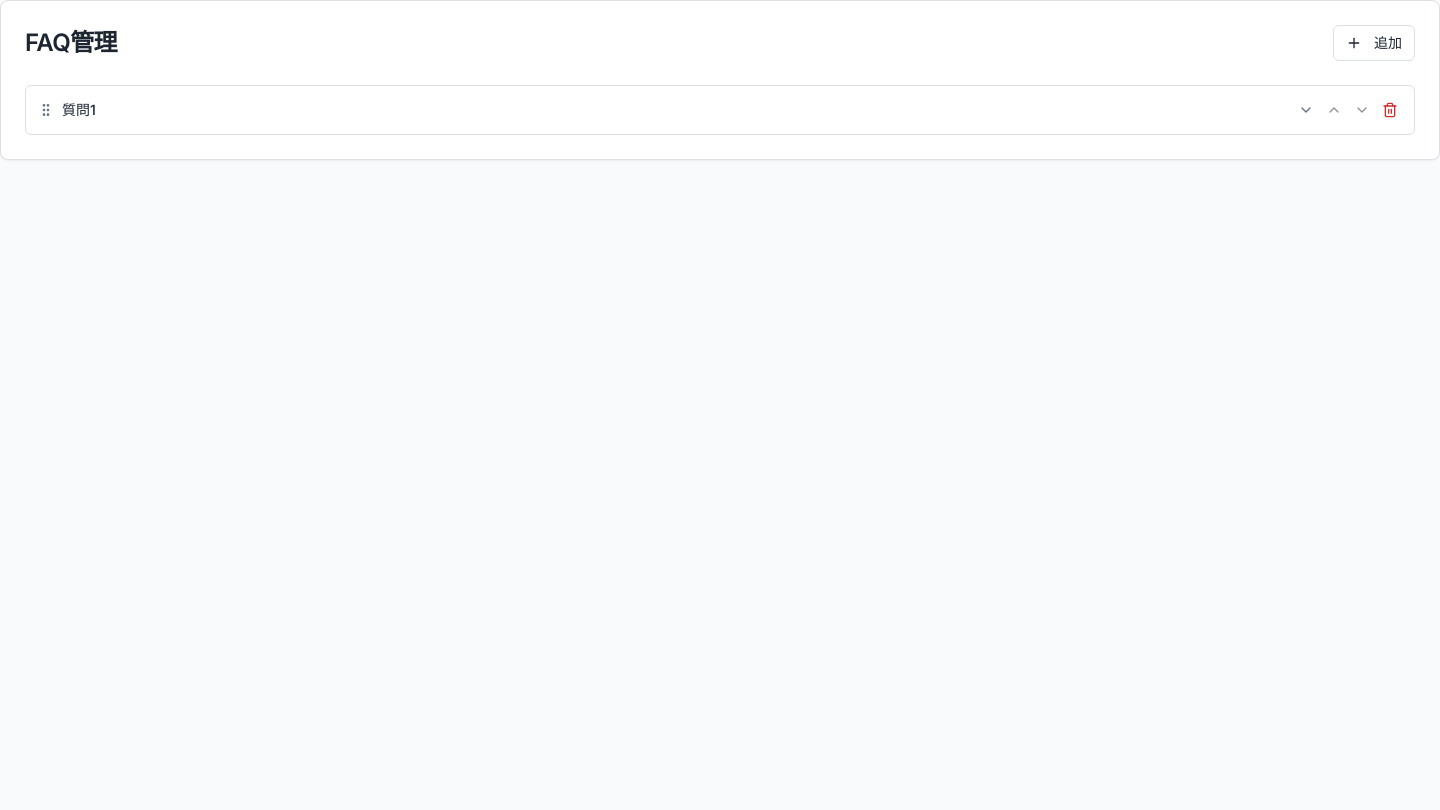
Test: FAQManager › localization › renders both language edit fields when expanded in bilingual mode
The image size is (1440, 810).
What coordinates should you click on to do the following:
click the button "質問1"
I would click on:
 (79, 110)
Its box is x1=62 y1=100 x2=1314 y2=120.
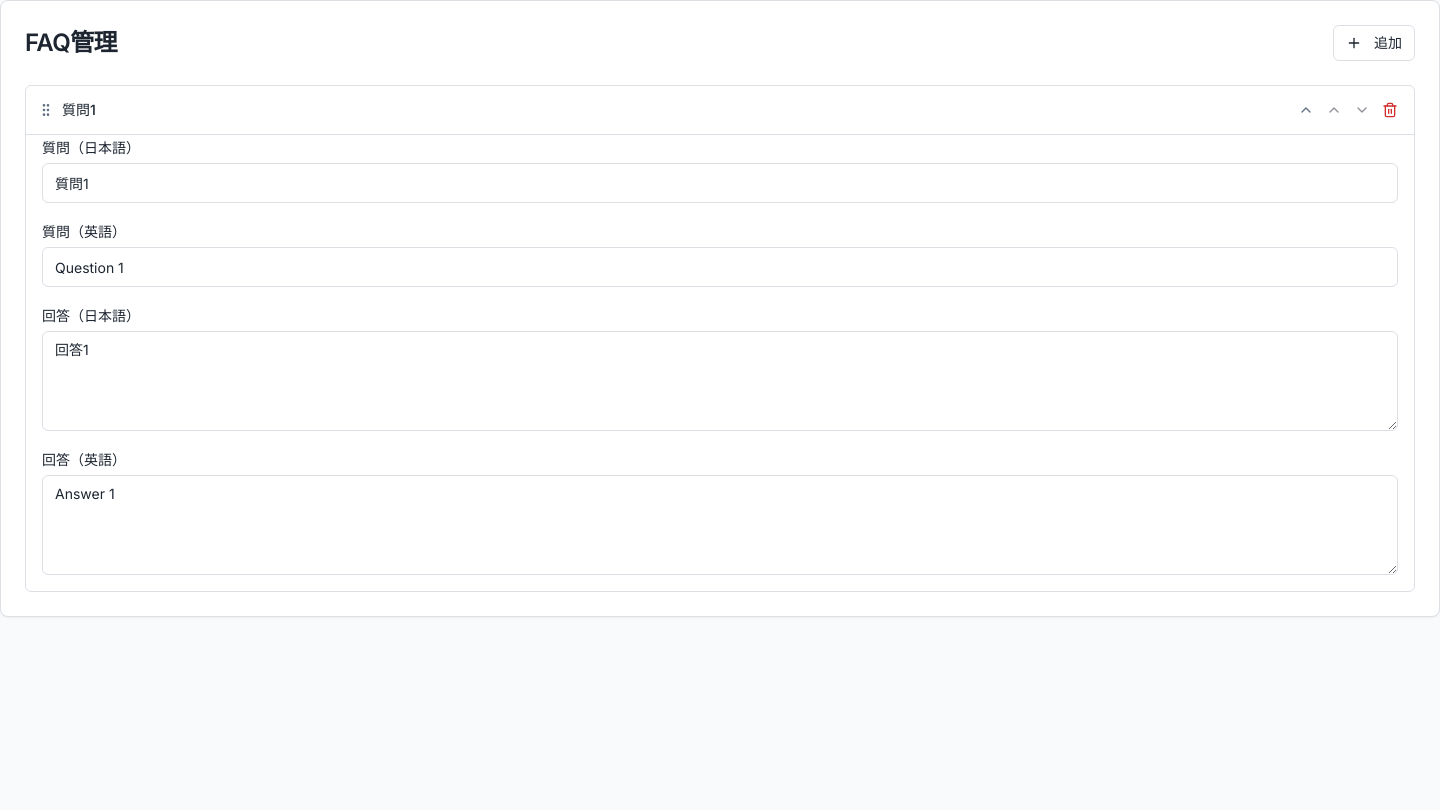
Result: the field with placeholder "質問を入力" below "質問（日本語）" is shown at x1=42 y1=163 x2=1398 y2=203
Result: the field with placeholder "Enter question in English" below "質問（英語）" is shown at x1=42 y1=247 x2=1398 y2=287
Result: the text box with placeholder "回答を入力" below "回答（日本語）" is shown at x1=42 y1=331 x2=1398 y2=431
